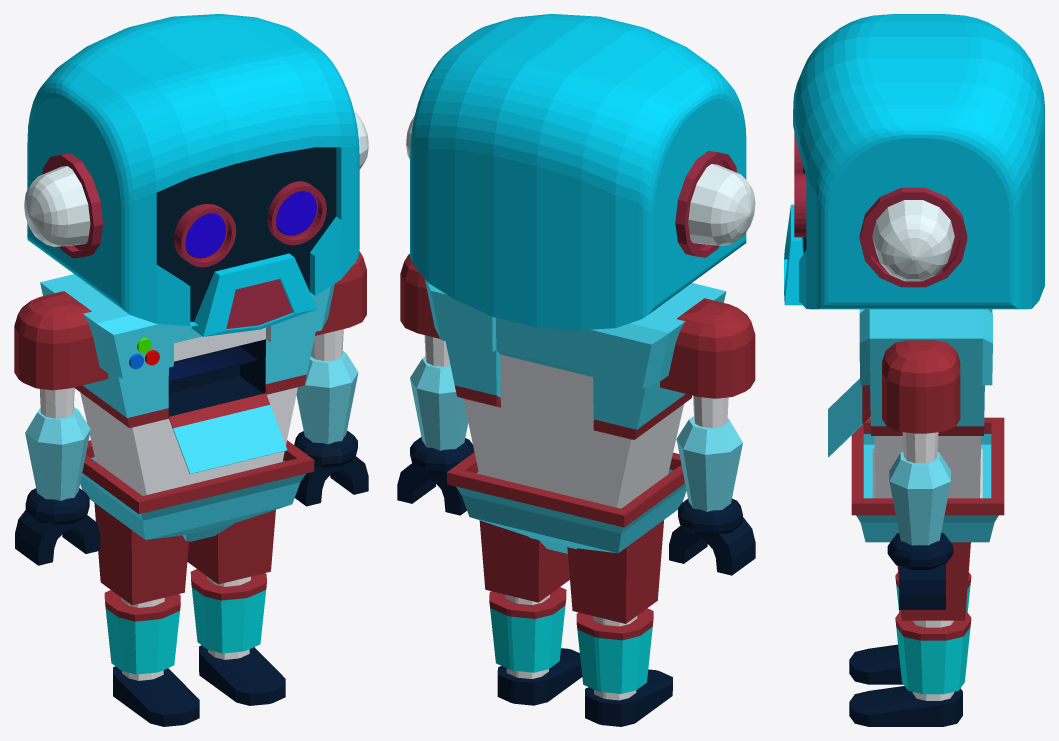
File: robotmodel.fbx
3 renders of one model, left to right at view 1: azimuth 30°, elevation 25°; view 2: azimuth 150°, elevation 25°; view 3: azimuth 270°, elevation 25°, orthographic.
Visible parts, largest first — view 1: Cube.108; view 2: Cube.108; view 3: Cube.108.
Part boxes in pixels (left/top/right/bottom): Cube.108: left=14, top=14, right=368, bottom=726; Cube.108: left=397, top=14, right=755, bottom=726; Cube.108: left=784, top=14, right=1044, bottom=726.
Size of the model in its own units: 151 by 101 by 275.
